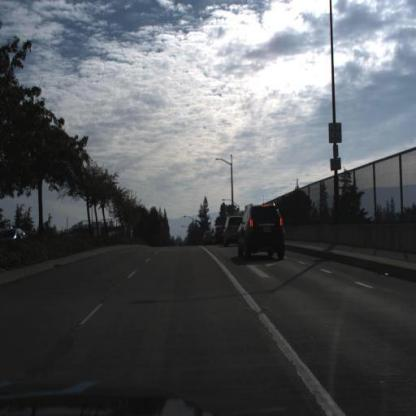car: (237, 203, 287, 263), (222, 215, 245, 249), (212, 224, 224, 245), (213, 226, 223, 244), (204, 232, 213, 246)
